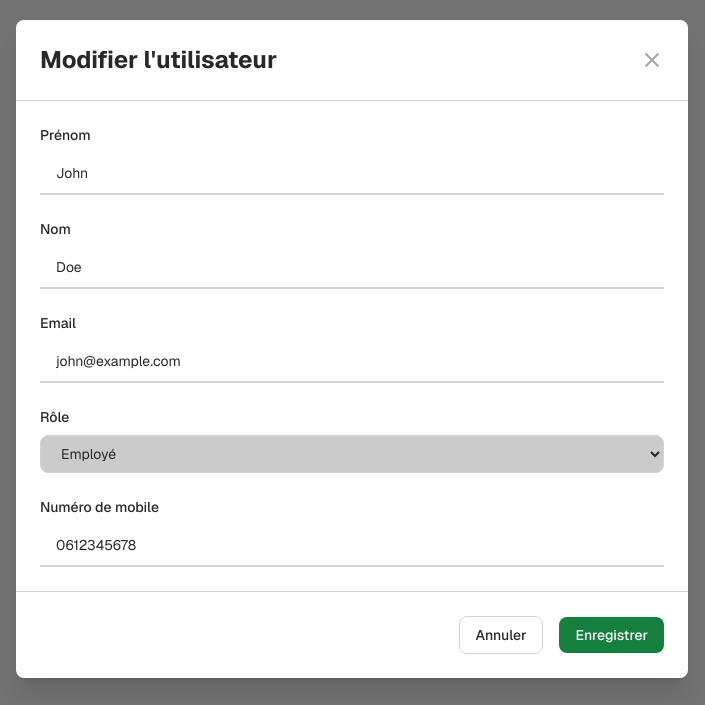
Scenario: EditUserModal › Form Validation › should show error when all fields are empty
Clear the field labelled "Prénom": (352, 174) x1=40 y1=153 x2=664 y2=195
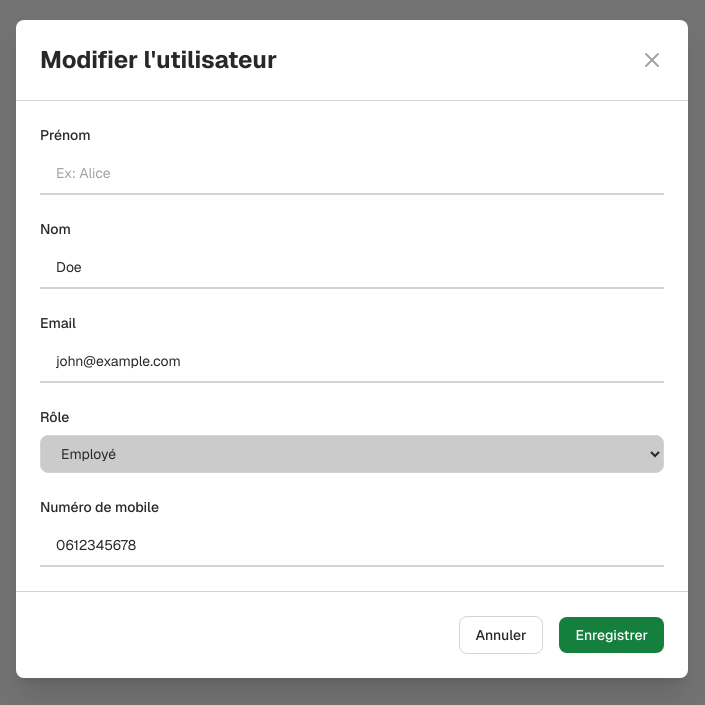
Clear the field labelled "Nom": (352, 268) x1=40 y1=247 x2=664 y2=289
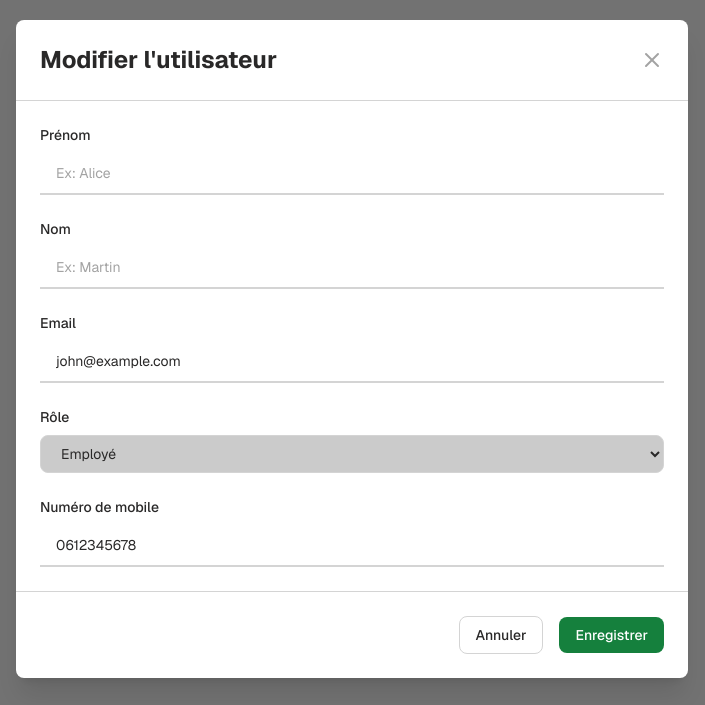
Clear the field labelled "Email": (352, 362) x1=40 y1=341 x2=664 y2=383
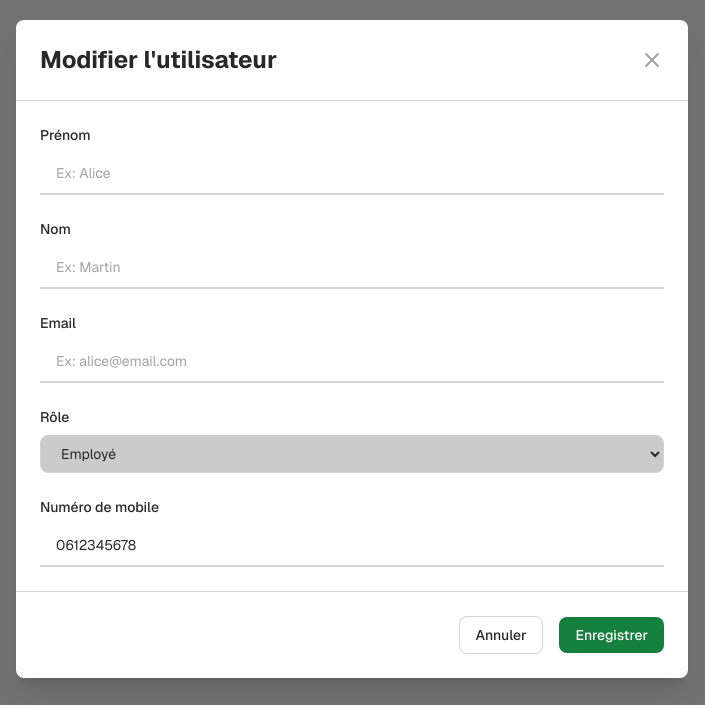
Click the button "Enregistrer": (612, 635) x1=560 y1=617 x2=664 y2=653
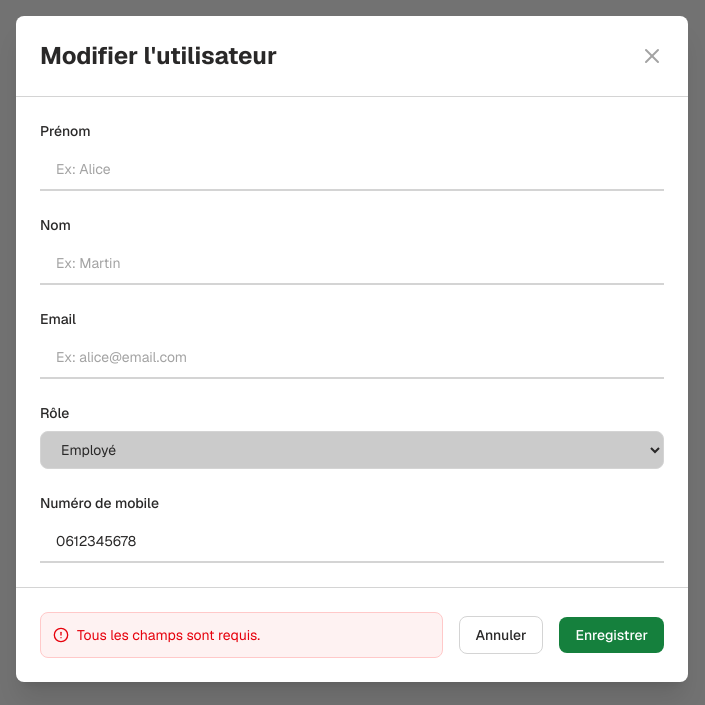
expect the text "Tous les champs sont requis." is shown: met, box x1=77 y1=626 x2=260 y2=644
